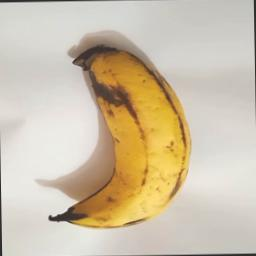Banana Unripe: (40, 38, 194, 231)
